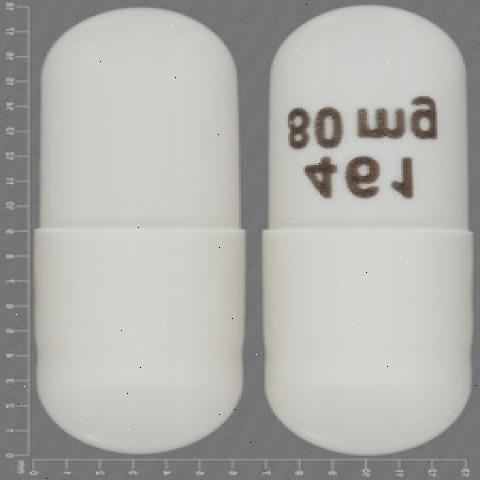Pill: (27, 4, 247, 461), (257, 9, 476, 459)
